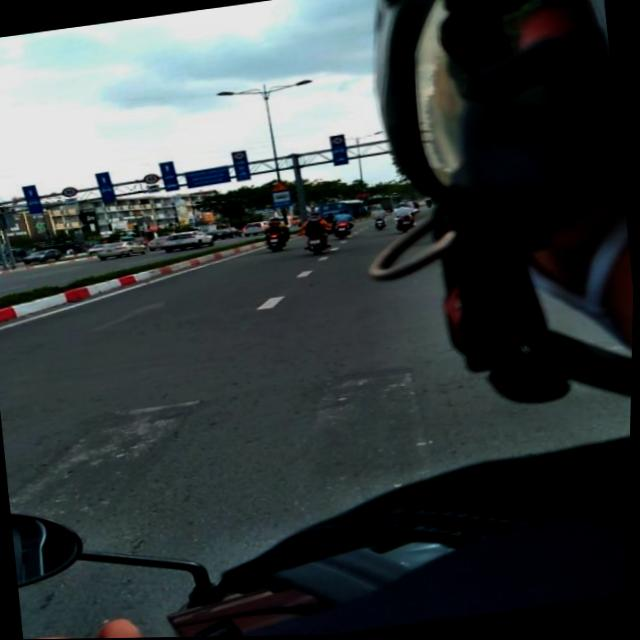Ben xe buyt: (271, 191, 294, 209)
Toc do toi da cho phep: (62, 186, 79, 198), (143, 173, 160, 185), (331, 136, 345, 146), (233, 152, 246, 161)
cho ngoat nguy hiem vong ben phai: (271, 180, 291, 192)
